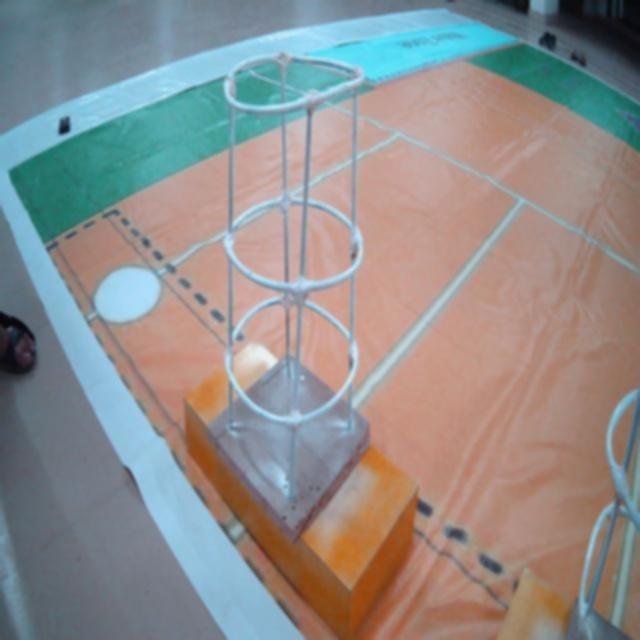silo: (211, 29, 373, 512)
